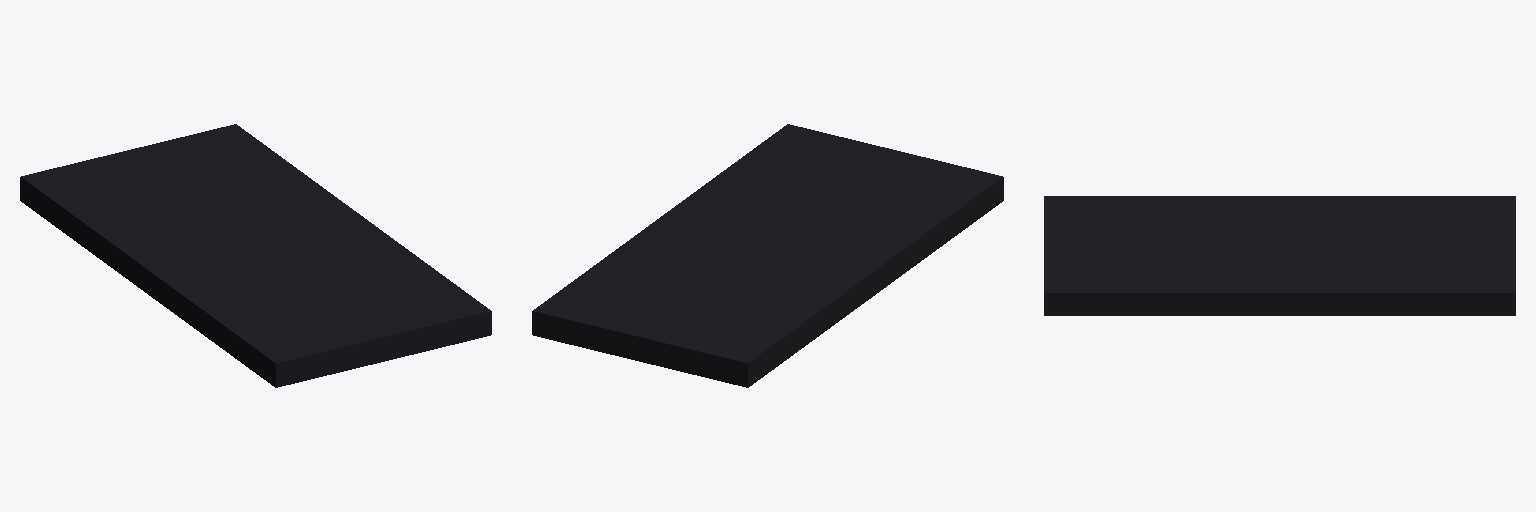
The robot description file, URDF, robot "iphone_16e":
<?xml version="1.0"?>
<!-- iPhone 16e: generated by imuninn from Apple's dimensional drawings (iphone-frames dataset). Frames: device = display centre on the front glass (x right, y top, z out of the screen); cam_*_optical = OpenCV axes. Geometry and mass are approximate. -->
<robot name="iphone_16e">
  <material name="iphone_body">
    <color rgba="0.15 0.15 0.17 1" />
  </material>
  <material name="iphone_lens">
    <color rgba="0.05 0.05 0.06 1" />
  </material>
  <link name="device">
    <visual name="body">
      <origin xyz="0 0 -0.0039" rpy="0 0 0" />
      <geometry>
        <box size="0.07152 0.14671 0.0078" />
      </geometry>
      <material name="iphone_body" />
    </visual>
    <collision name="body">
      <origin xyz="0 0 -0.0039" rpy="0 0 0" />
      <geometry>
        <box size="0.07152 0.14671 0.0078" />
      </geometry>
    </collision>
    <visual name="lens_main">
      <origin xyz="0.02244 0.060035 -0.00864" rpy="0 0 0" />
      <geometry>
        <cylinder radius="0.007485" length="0.00168" />
      </geometry>
      <material name="iphone_lens" />
    </visual>
    <inertial>
      <origin xyz="0 0 -0.0039" rpy="0 0 0" />
      <mass value="0.188" />
      <inertia ixx="0.00033816" ixy="0" ixz="0" iyy="8.10899e-05" iyz="0" izz="0.000417343" />
    </inertial>
  </link>
  <link name="magsafe" />
  <joint name="device_to_magsafe" type="fixed">
    <parent link="device" />
    <child link="magsafe" />
    <origin xyz="0 5e-06 -0.0078" rpy="3.14159265 0 3.14159265" />
  </joint>
  <link name="cam_main_optical" />
  <joint name="device_to_cam_main_optical" type="fixed">
    <parent link="device" />
    <child link="cam_main_optical" />
    <origin xyz="0.02244 0.060035 -0.00948" rpy="3.14159265 0 -1.57079633" />
  </joint>
  <link name="cam_front_optical" />
  <joint name="device_to_cam_front_optical" type="fixed">
    <parent link="device" />
    <child link="cam_front_optical" />
    <origin xyz="0.00017 0.068035 0" rpy="0 0 1.57079633" />
  </joint>
  <link name="imu" />
  <joint name="device_to_imu" type="fixed">
    <parent link="device" />
    <child link="imu" />
    <origin xyz="0 0 0" rpy="0 0 0" />
  </joint>
</robot>

--- What the picture shows (computed from the rendered views, not written in the file) ---
3 views of the same robot in one strip: view 1: azimuth 30°, elevation 25°; view 2: azimuth 150°, elevation 25°; view 3: azimuth 270°, elevation 25° (orthographic).
Robot: iphone_16e — 5 links, 4 joints (4 fixed); root link device; default pose: every joint at zero.
Links seen in each view (by area): view 1: device; view 2: device; view 3: device.
Boxes of the visible links, x1=… form: device: x1=20, y1=124, x2=491, y2=387; device: x1=532, y1=124, x2=1003, y2=387; device: x1=1044, y1=196, x2=1515, y2=315.
Bounding box of the posed robot: 0.0715 × 0.1467 × 0.0095 m (x, y, z).
Geometry: primitives only (box / cylinder / sphere), no mesh files.
